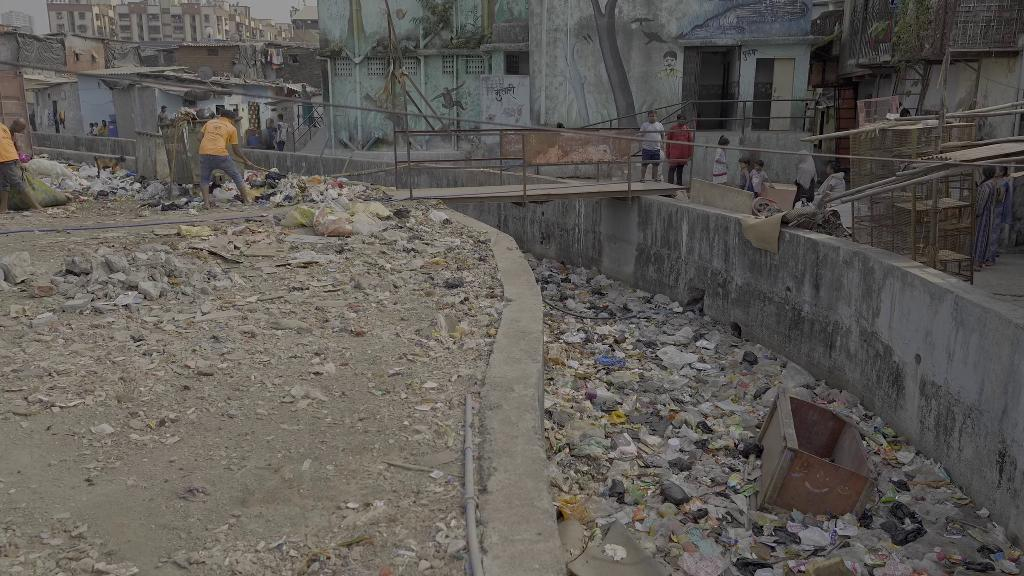garbage: (590, 386, 627, 426), (881, 516, 928, 546), (308, 206, 357, 232), (753, 524, 802, 547), (888, 500, 921, 526), (660, 477, 689, 505), (798, 525, 830, 547), (594, 352, 627, 369), (604, 540, 628, 561), (742, 441, 765, 459), (670, 456, 693, 472), (568, 268, 587, 286), (591, 272, 612, 288), (876, 445, 897, 461), (893, 476, 912, 493), (727, 473, 743, 490), (880, 488, 896, 504), (743, 483, 760, 498), (744, 350, 759, 365), (975, 507, 991, 519)
